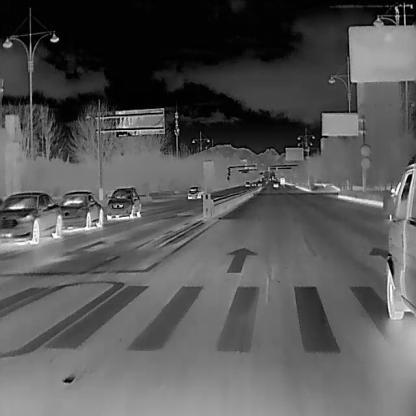car: (382, 163, 415, 323), (0, 186, 60, 244), (59, 190, 102, 227), (106, 185, 140, 219), (187, 185, 199, 197), (280, 177, 285, 186), (245, 180, 250, 186), (251, 181, 256, 186), (273, 182, 278, 187), (258, 180, 262, 186)
